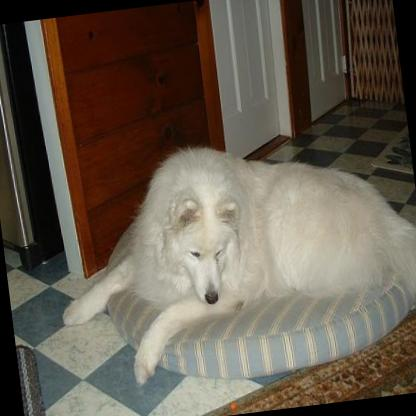Samoyed: (40, 119, 416, 394)
